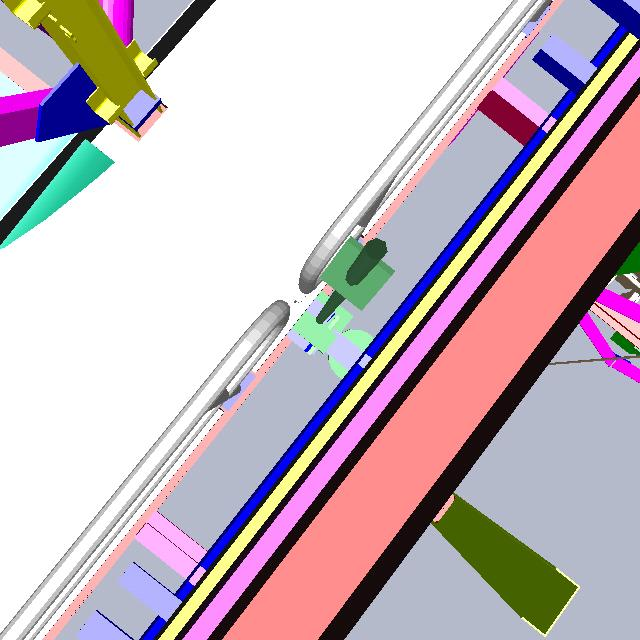Poste: (279, 231, 408, 355)
Soporte: (426, 485, 582, 636)
